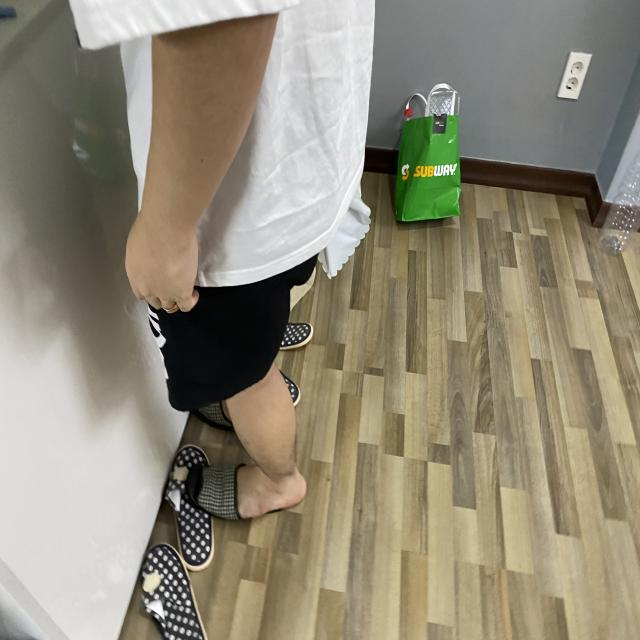no-boots: (191, 447, 324, 535)
